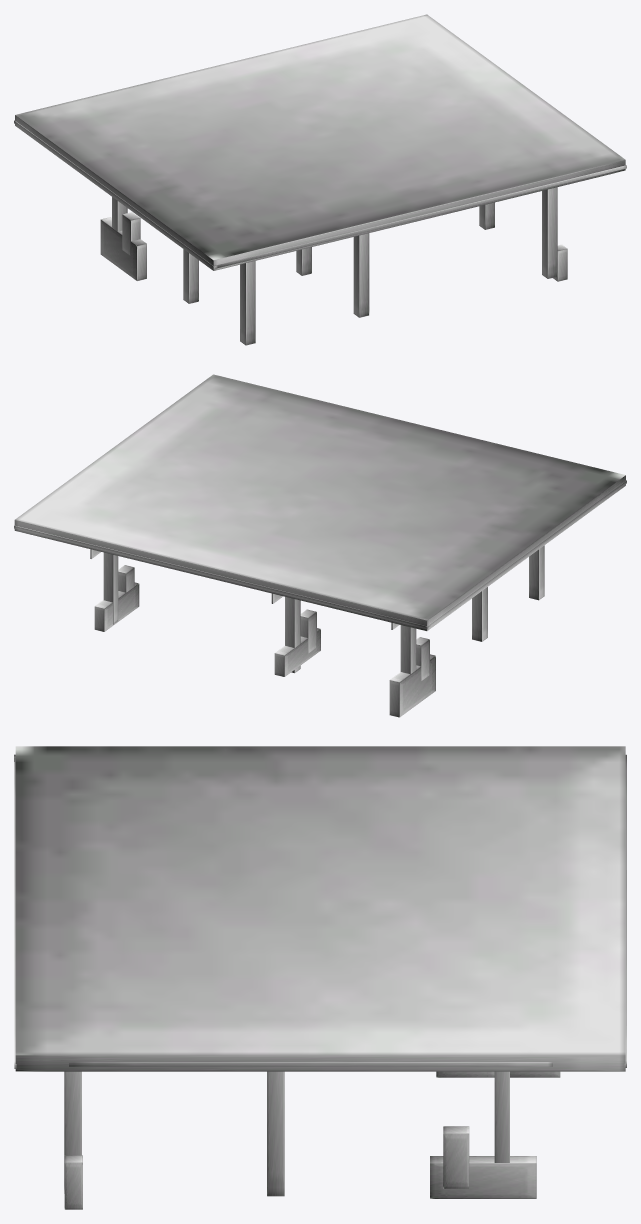
File: gas_station.gltf
3 views of the same model, one above another, from view 1: azimuth 30°, elevation 25°; view 2: azimuth 150°, elevation 25°; view 3: azimuth 270°, elevation 25° (orthographic). The views are drawn at different scales.
Visible parts, largest first — view 1: CSGCombiner3D22; view 2: CSGCombiner3D22; view 3: CSGCombiner3D22.
Part boxes in pixels (<box>): CSGCombiner3D22: <box>14,14,626,345</box>; CSGCombiner3D22: <box>14,374,626,717</box>; CSGCombiner3D22: <box>14,746,626,1209</box>.
Bounding box in the file's own units: 41.59 × 12.68 × 34.76.
1 material, 1 textured.
